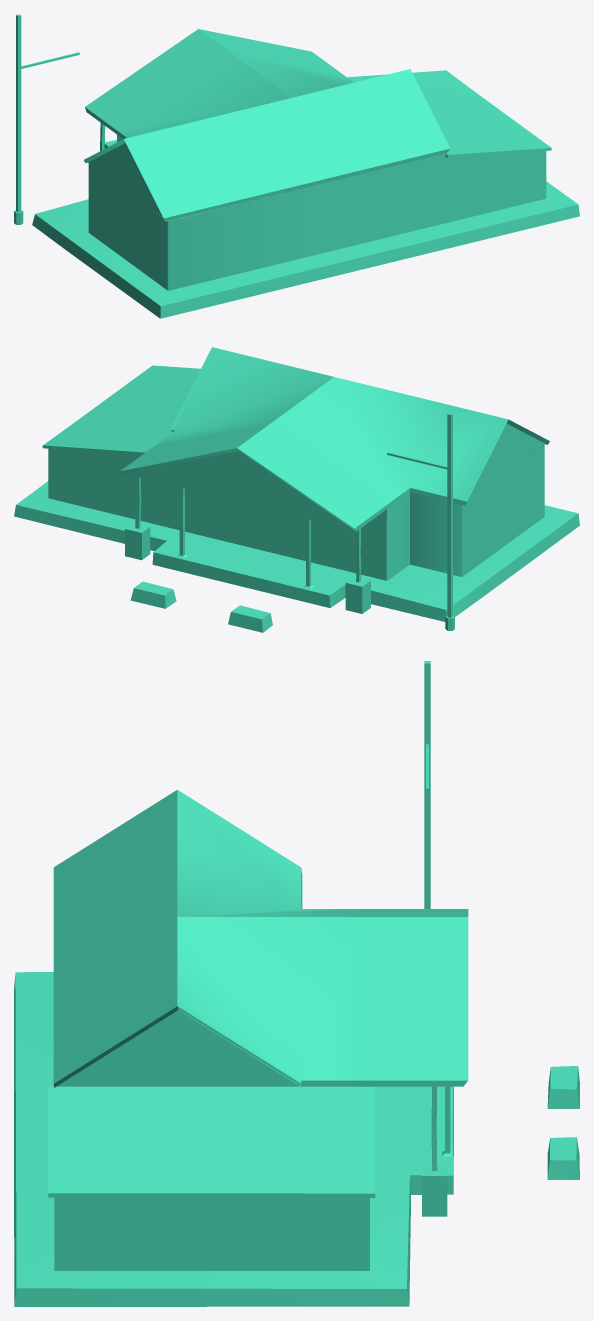
Rendered from GasStation_CollisionMesh.fbx.
The picture shows the model from 3 angles, top to bottom: view 1: azimuth 30°, elevation 25°; view 2: azimuth 150°, elevation 25°; view 3: azimuth 270°, elevation 25°; orthographic projection. The views are drawn at different scales.
Visible parts, largest first — view 1: GasStation_CollisionMesh; view 2: GasStation_CollisionMesh; view 3: GasStation_CollisionMesh.
Boxes of the visible parts, x1=… form: GasStation_CollisionMesh: x1=14, y1=14, x2=579, y2=318; GasStation_CollisionMesh: x1=14, y1=347, x2=579, y2=632; GasStation_CollisionMesh: x1=14, y1=661, x2=579, y2=1306.
Size of the model in its own units: 17.95 by 8.27 by 13.18.
